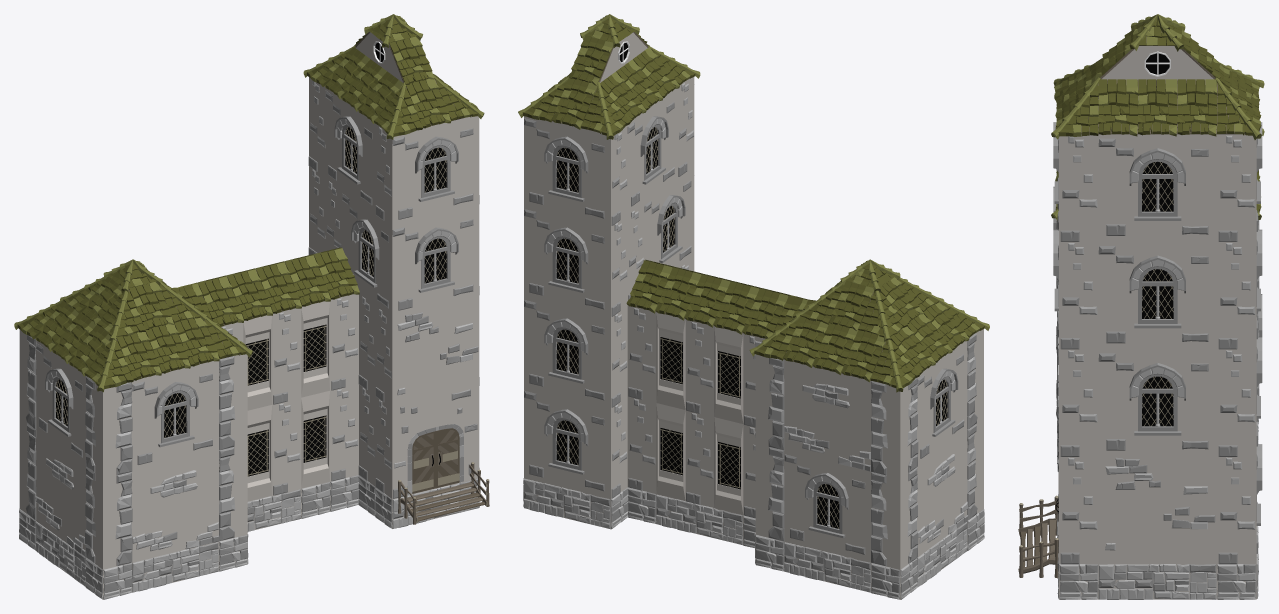
Rendered from HOUSE_11.fbx.
3 views of the same model, side by side, from view 1: azimuth 30°, elevation 25°; view 2: azimuth 150°, elevation 25°; view 3: azimuth 270°, elevation 25° (orthographic). The views are drawn at different scales.
Visible parts, largest first — view 1: WALL_01_2, WINDOW_03_18, WALL_03_4, WINDOW_03_19, WINDOW_03_17, DOOR_02_3, WINDOW_03_21, WALL_03_2, WINDOW_03_27, WINDOW_03_20, WALL_06_10, WALL_06_6 (+60 smaller); view 2: WINDOW_03_26, WALL_03_3, WINDOW_03_25, WINDOW_03_23, WINDOW_03_24, WINDOW_03_22, WALL_03_2, WINDOW_03_21, WINDOW_03_27, WINDOW_03_20, WALL_06_16, WINDOW_04_7 (+57 smaller); view 3: WALL_01_3, WINDOW_03_29, WINDOW_03_28, WINDOW_03_30, FOUNDATION_03_9, WALL_06_26, WALL_06_29, WALL_06_25, WALL_06_30, WALL_06_27, WALL_06_28, WALL_06_35 (+25 smaller).
Part boxes in pixels (x1,y1,x2,y2): WALL_01_2: (392, 296, 479, 407); WINDOW_03_18: (392, 205, 479, 316); WALL_03_4: (132, 450, 219, 562); WINDOW_03_19: (392, 116, 479, 225); WINDOW_03_17: (132, 361, 218, 471); DOOR_02_3: (392, 387, 479, 498); WINDOW_03_21: (325, 88, 375, 213); WALL_03_2: (35, 430, 86, 556); WINDOW_03_27: (36, 340, 86, 465); WINDOW_03_20: (342, 190, 393, 316); WALL_06_10: (272, 398, 301, 495); WALL_06_6: (272, 308, 301, 404); WINDOW_03_26: (784, 450, 871, 562); WALL_03_3: (784, 360, 871, 471); WINDOW_03_25: (524, 387, 611, 498); WINDOW_03_23: (524, 205, 611, 316); WINDOW_03_24: (524, 296, 610, 407); WINDOW_03_22: (524, 116, 611, 225); WALL_03_2: (917, 430, 968, 556); WINDOW_03_21: (627, 88, 677, 213); WINDOW_03_27: (917, 341, 967, 465); WINDOW_03_20: (644, 165, 694, 267); WALL_06_16: (627, 396, 656, 493); WINDOW_04_7: (714, 417, 743, 514); WALL_01_3: (1098, 456, 1216, 563); WINDOW_03_29: (1098, 241, 1216, 348); WINDOW_03_28: (1098, 349, 1216, 456); WINDOW_03_30: (1098, 134, 1216, 241); FOUNDATION_03_9: (1098, 563, 1216, 599); WALL_06_26: (1059, 349, 1098, 456); WALL_06_29: (1059, 241, 1098, 349); WALL_06_25: (1059, 456, 1098, 564); WALL_06_30: (1217, 241, 1256, 349); WALL_06_27: (1217, 349, 1256, 456); WALL_06_28: (1217, 456, 1256, 564); WALL_06_35: (1059, 134, 1098, 241).
Bounding box in the file's own units: 1341 × 1566 × 624.
